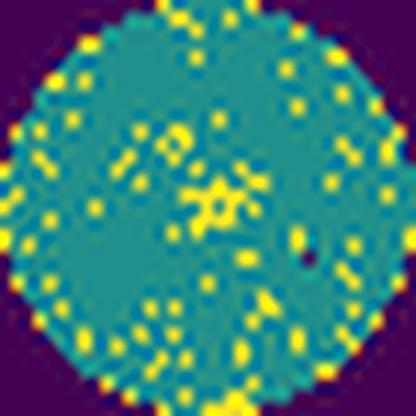Center: (179, 176, 253, 240)
